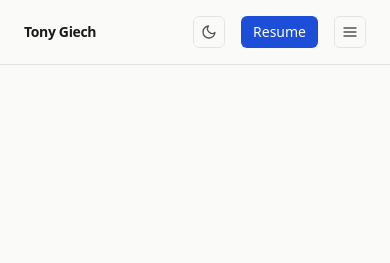
Scenario: Header mobile menu › closes the menu after a nav link is clicked
What coordinates should you click on to do the following:
click the button named "Open menu"
I would click on:
 (350, 32)
Its box is [334,16,366,48].
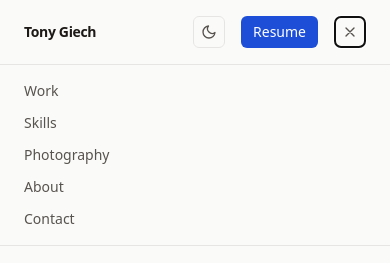
What coordinates should you click on to do the following:
click the link "About"
I would click on:
 (44, 186)
Its box is [24,177,64,196].
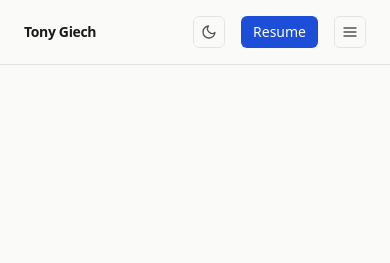
Now the navigation bar with id "mobile-nav" is gone
Now the button named "Open menu" is collapsed, box [334,16,366,48]
